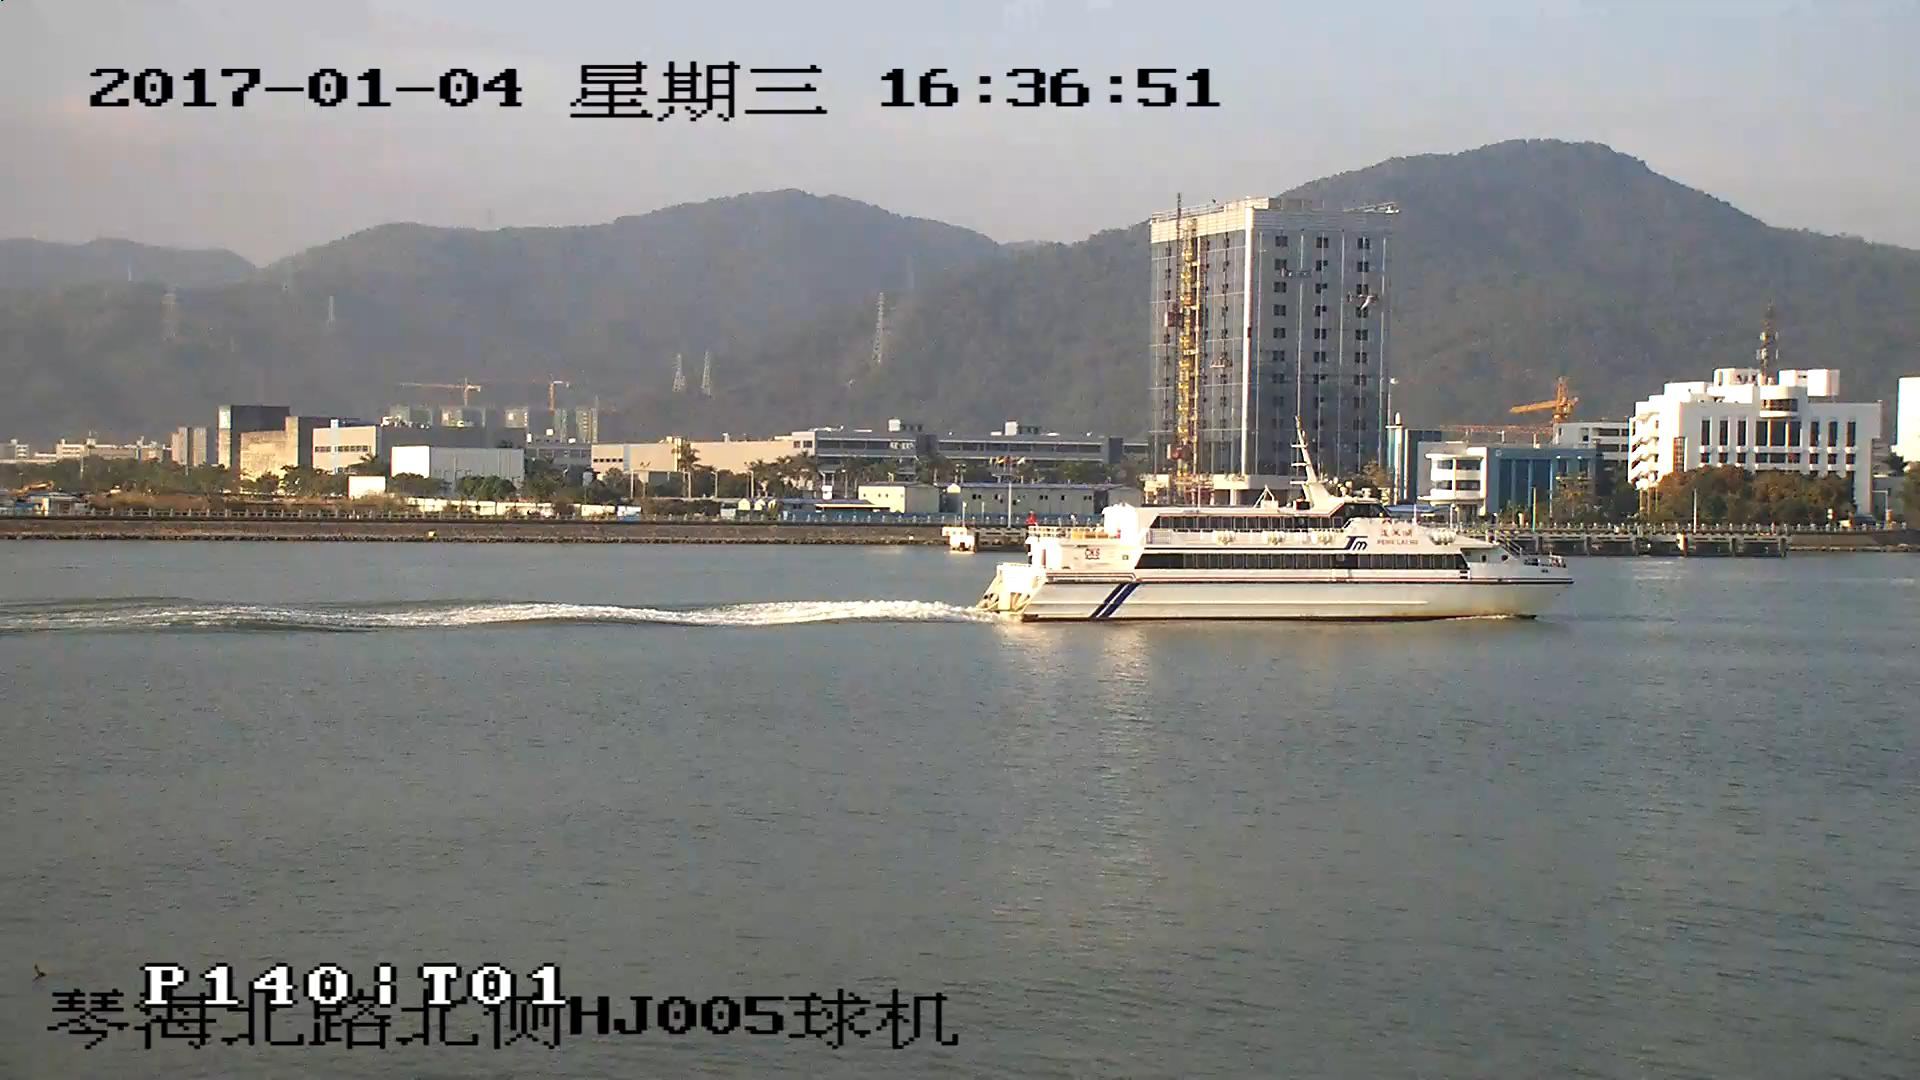passenger ship: (980, 432, 1570, 618)
